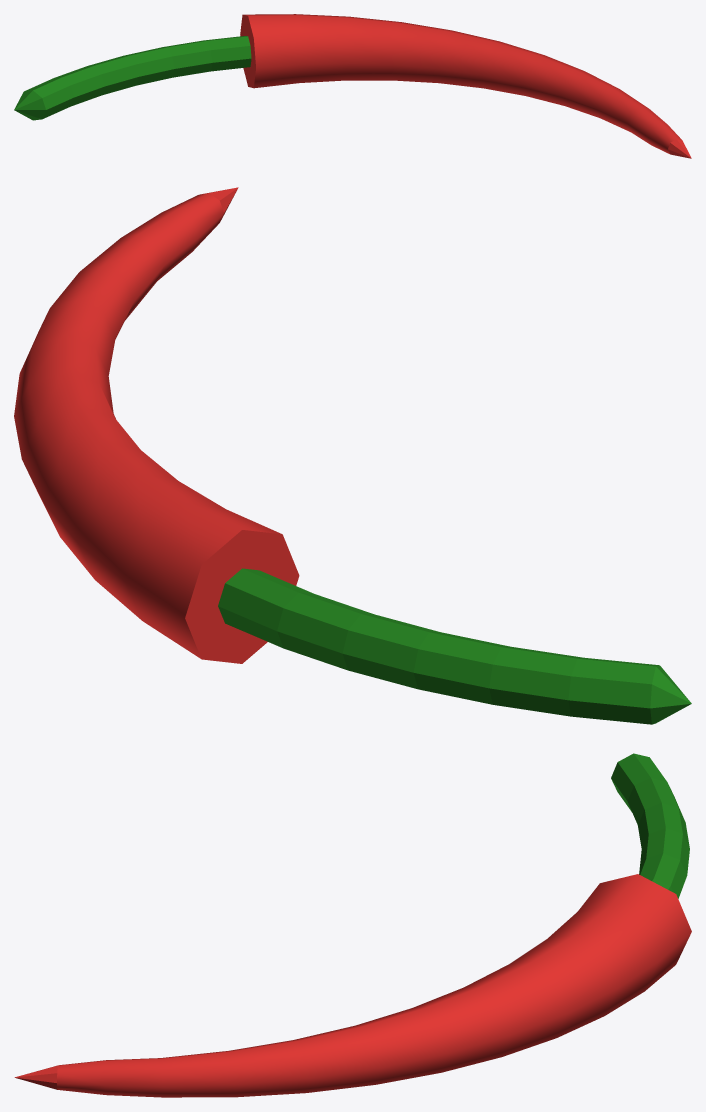
Rendered from Chili_pepper.FBX.
The picture shows the model from 3 angles, top to bottom: view 1: azimuth 30°, elevation 25°; view 2: azimuth 150°, elevation 25°; view 3: azimuth 270°, elevation 25°; orthographic projection. The views are drawn at different scales.
Visible parts, largest first — view 1: Cylinder002; view 2: Cylinder002; view 3: Cylinder002.
Part boxes in pixels (bbox=[...]): Cylinder002: bbox=[14, 14, 691, 158]; Cylinder002: bbox=[14, 187, 691, 724]; Cylinder002: bbox=[14, 753, 691, 1097].
Size of the model in its own units: 4.76 by 4.19 by 0.6829.
